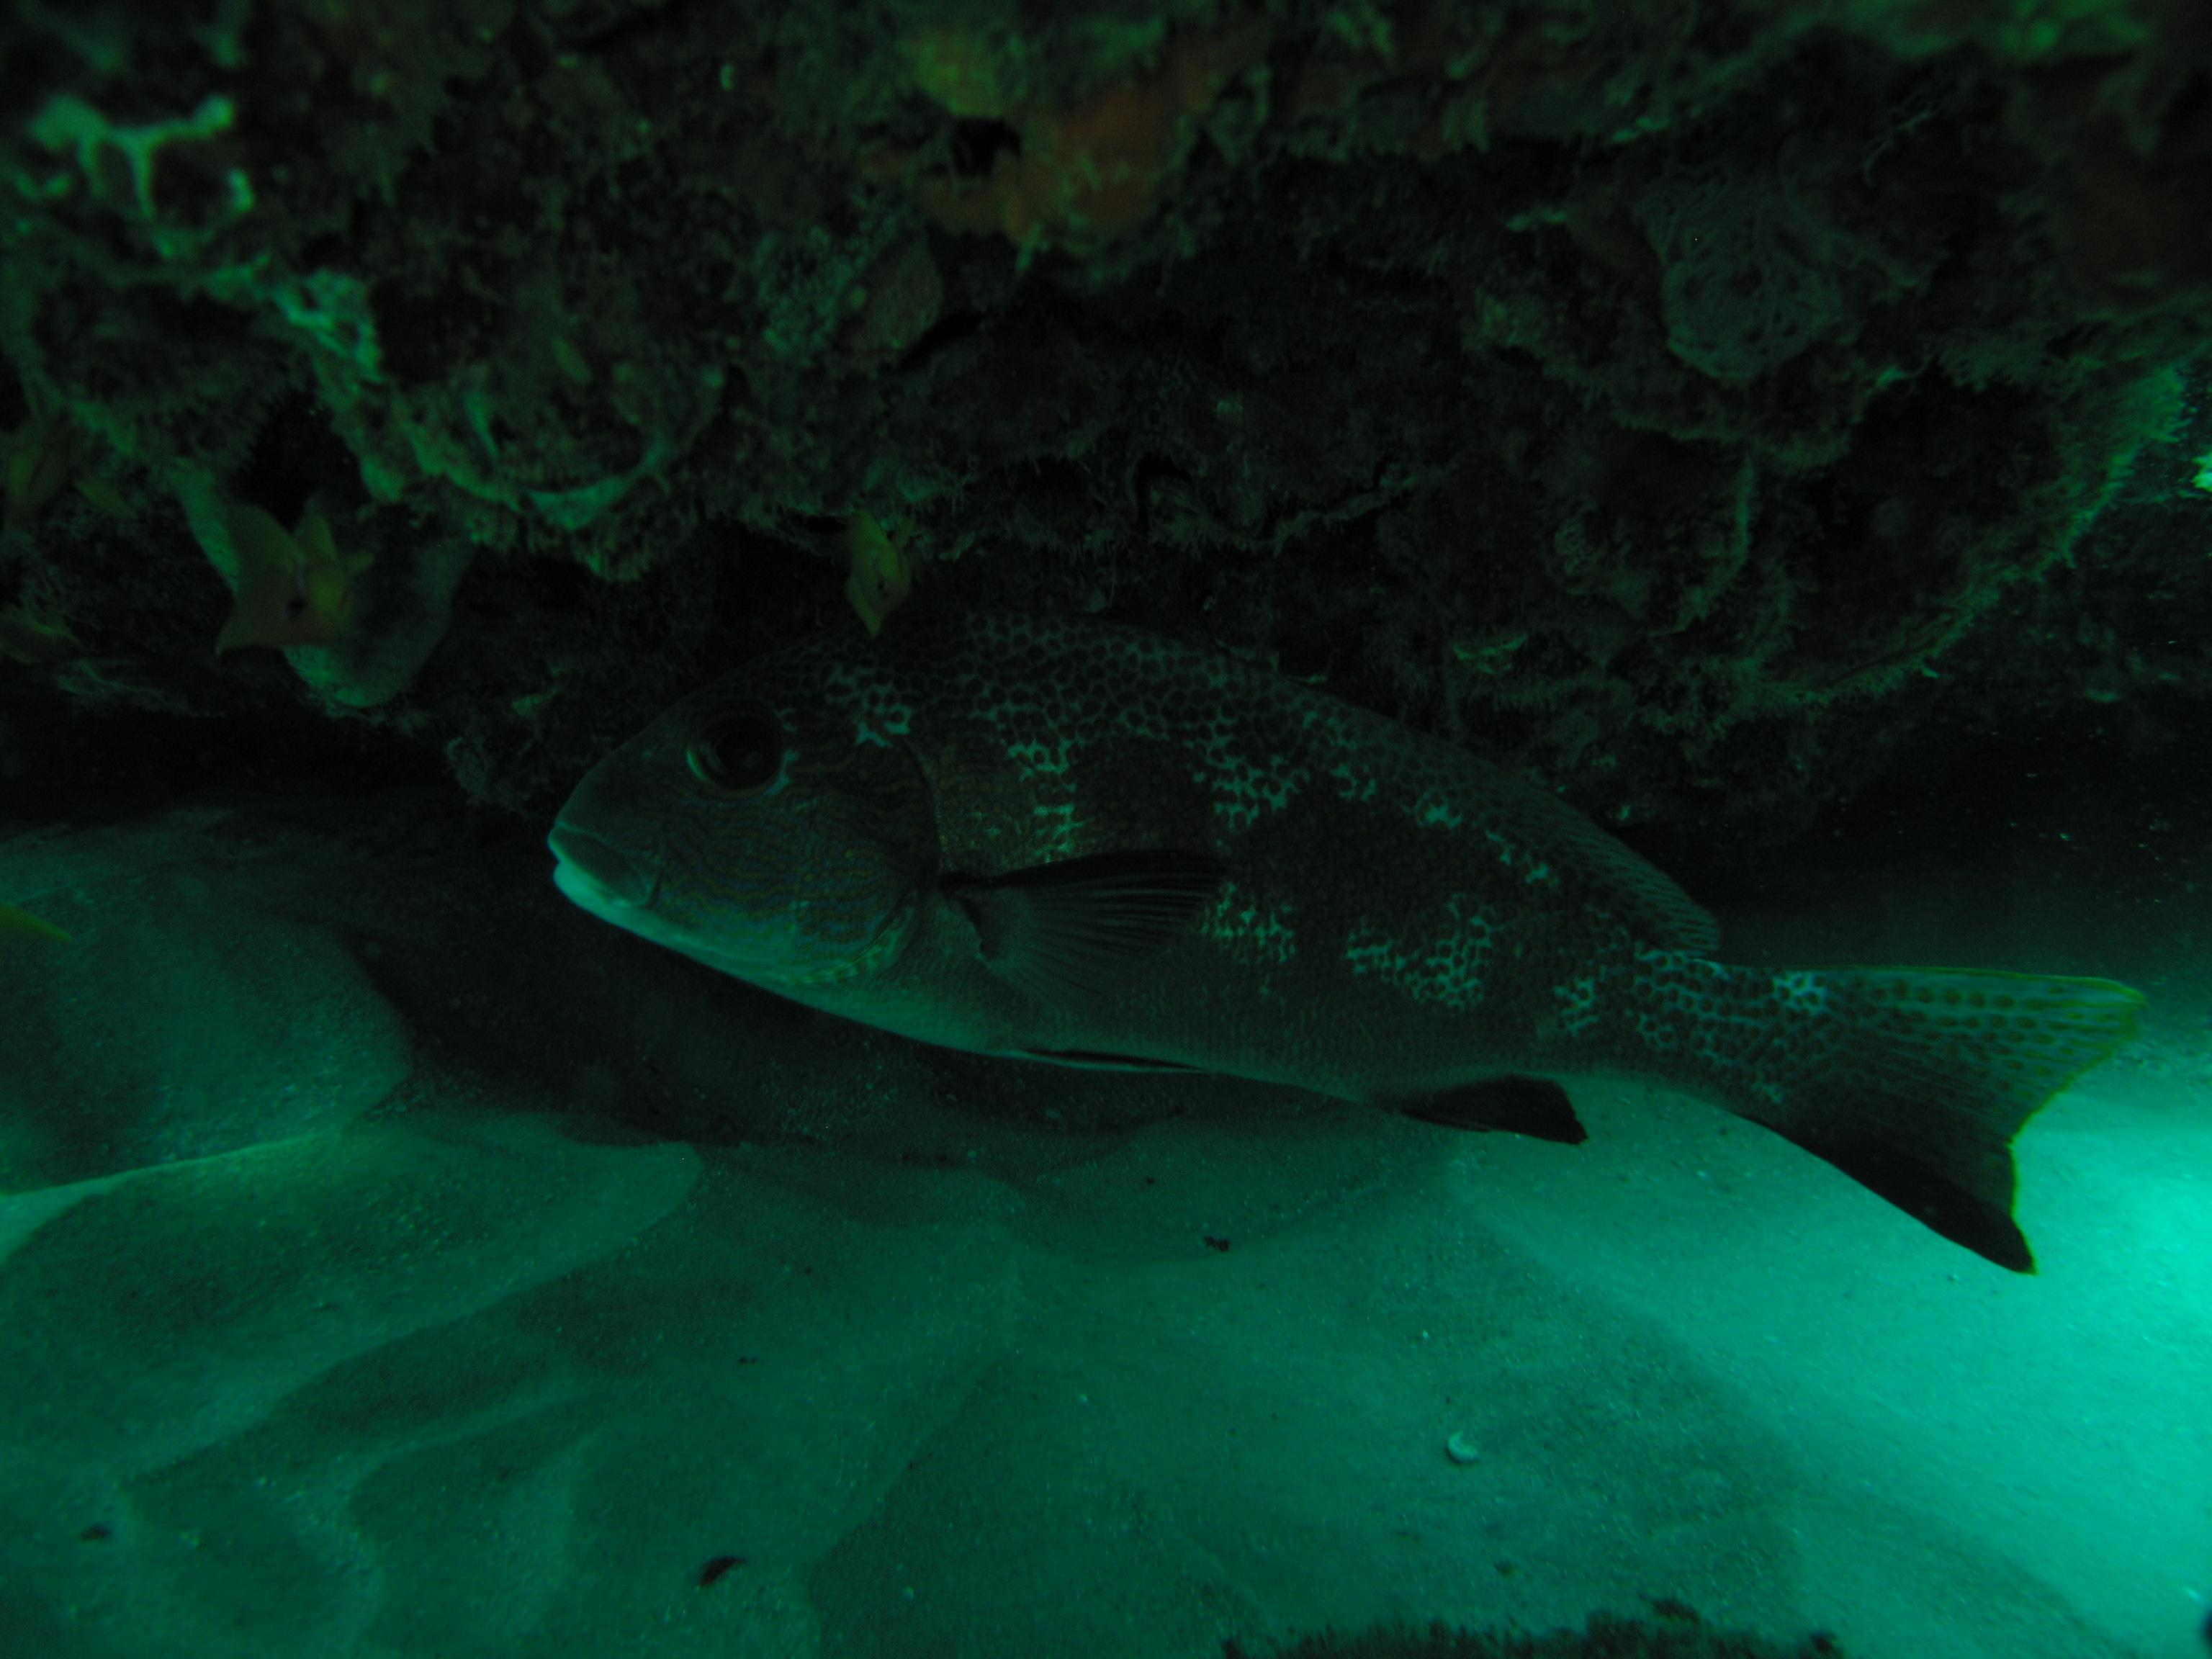Fish: (545, 610, 2148, 1279)
